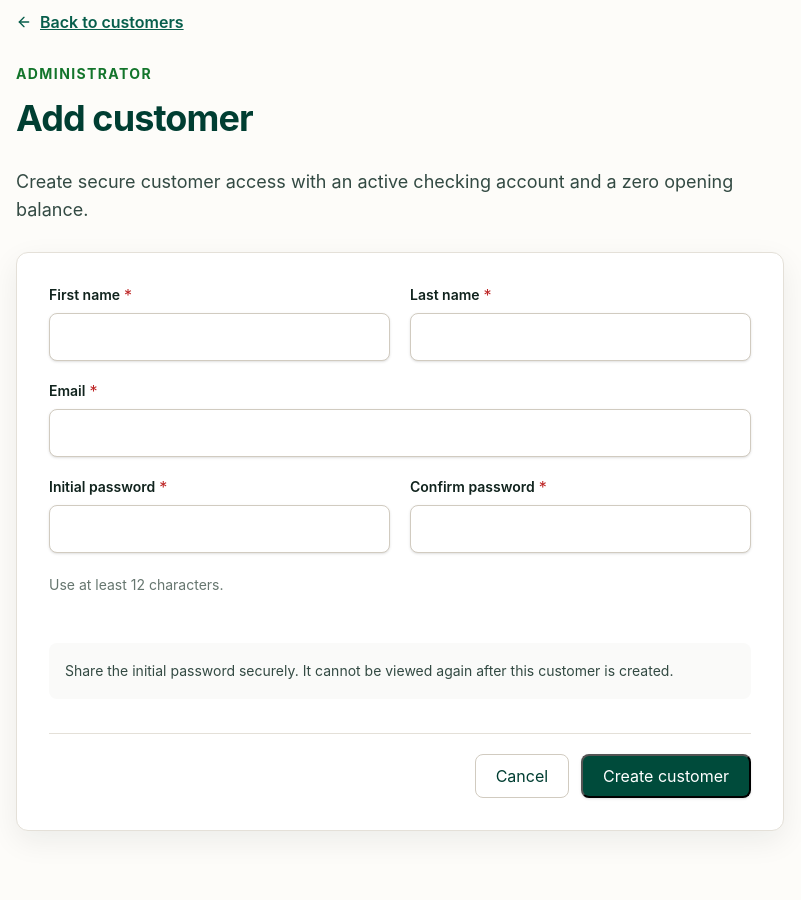
renders duplicate email feedback on the customer form
Type "Morgan" into the field labelled "First name" at (220, 337), box x1=49 y1=313 x2=390 y2=361
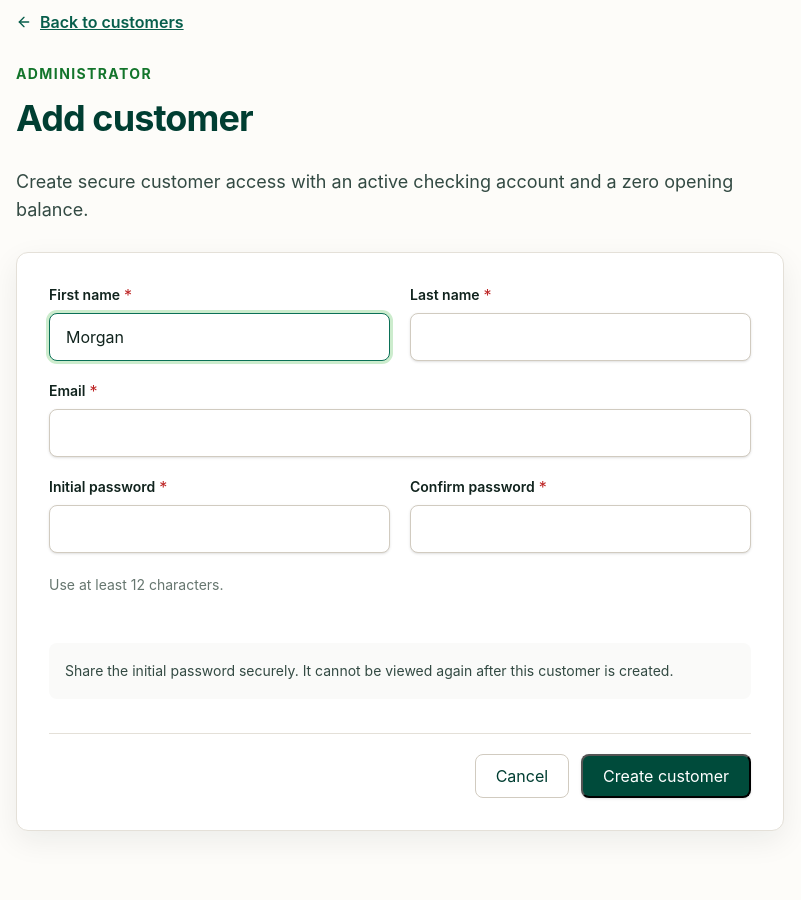
Type "Rivera" into the field labelled "Last name" at (580, 337), box x1=410 y1=313 x2=751 y2=361
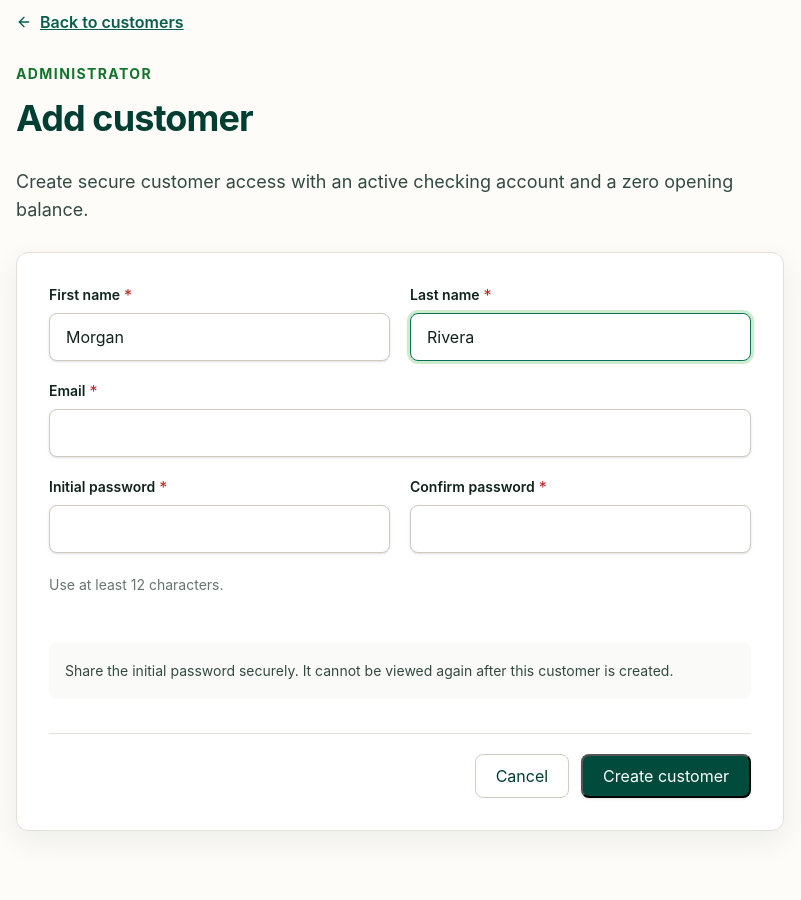
Type "existing@example.test" into the field labelled "Email" at (400, 433), box x1=49 y1=409 x2=751 y2=457
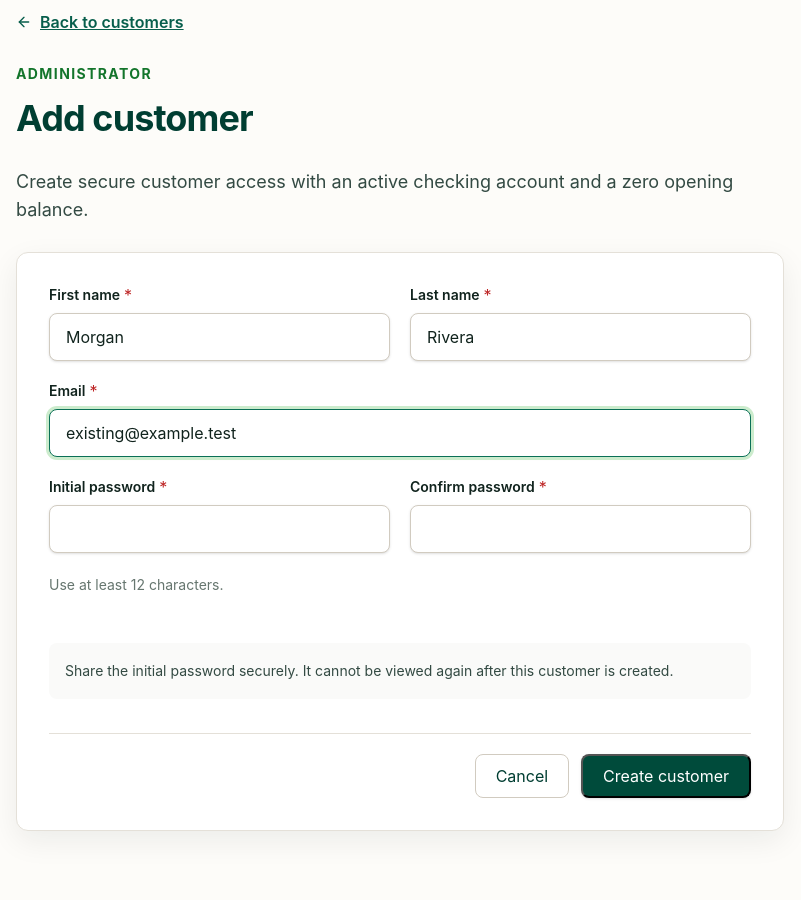
Type "Secure-passphrase" into the password field labelled "Initial password" at (220, 529), box x1=49 y1=505 x2=390 y2=553
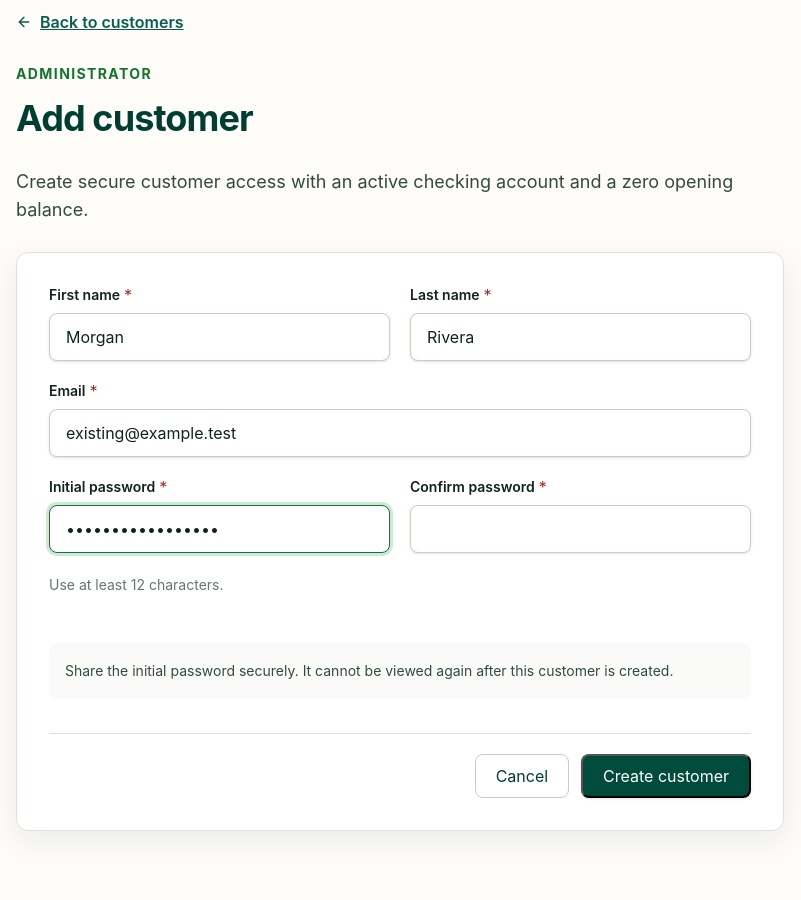
Type "Secure-passphrase" into the password field labelled "Confirm password" at (580, 529), box x1=410 y1=505 x2=751 y2=553
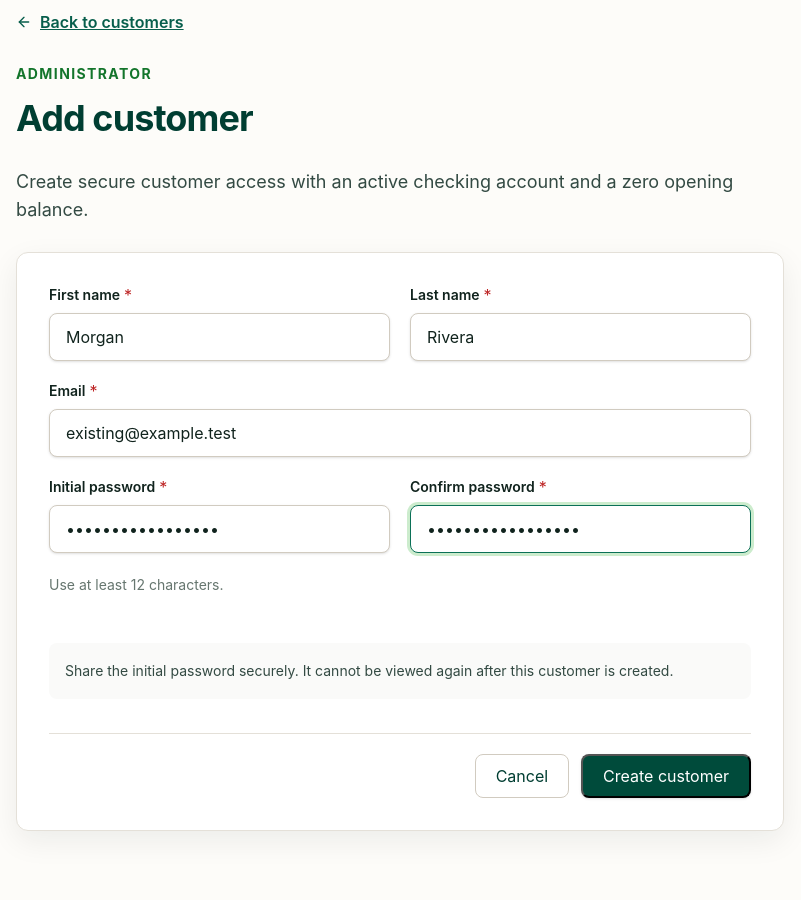
Click the button "Create customer" at (666, 776), box x1=581 y1=754 x2=751 y2=798
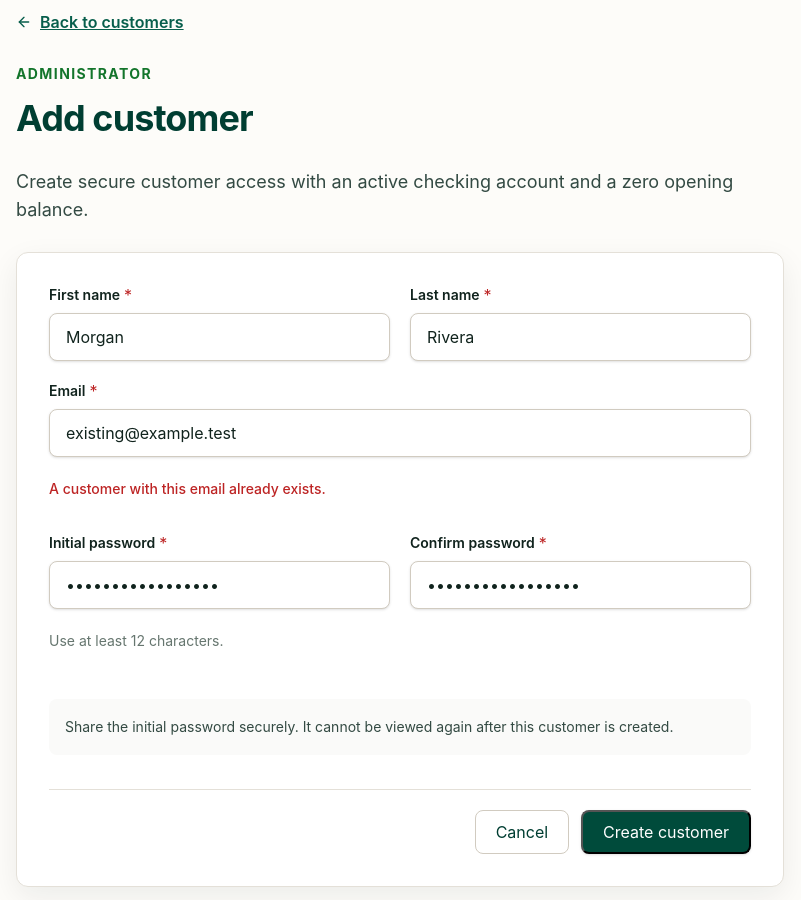
Now the text "A customer with this email already exists." is shown, box x1=49 y1=480 x2=326 y2=497
